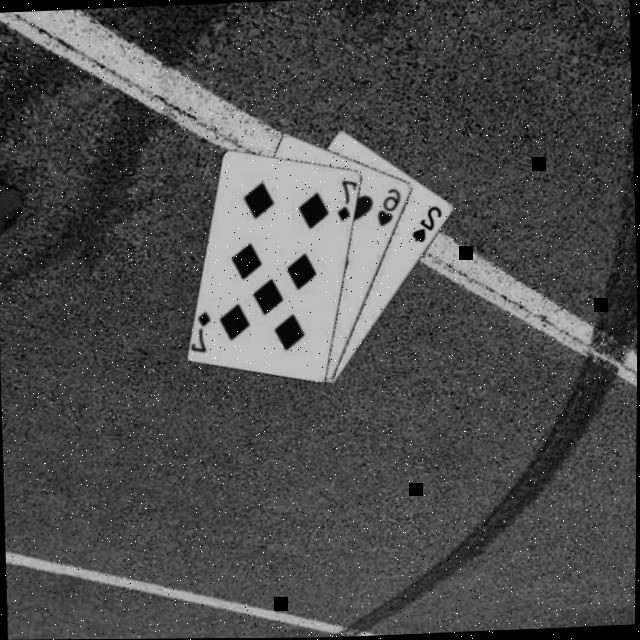2S: (406, 204, 443, 246)
6H: (370, 185, 402, 230)
7D: (332, 177, 358, 226), (188, 308, 214, 357)
